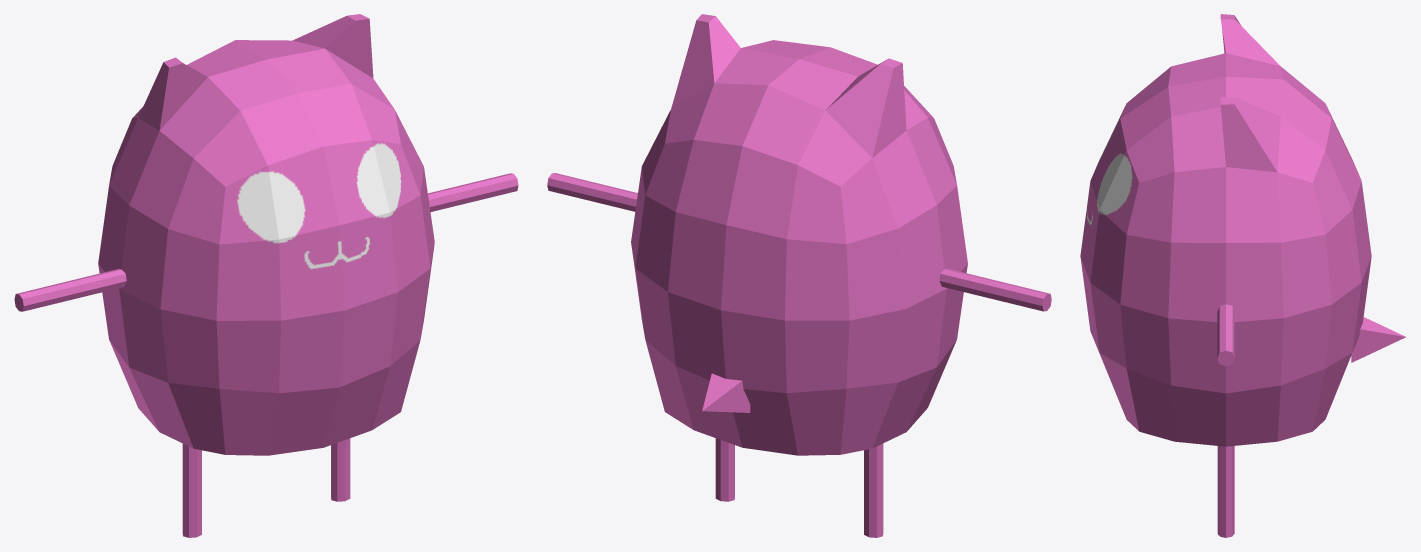
The model's file is nyanyapuccin_pink.glb.
3 renders of one model, left to right at view 1: azimuth 30°, elevation 25°; view 2: azimuth 150°, elevation 25°; view 3: azimuth 270°, elevation 25°, orthographic. The views are drawn at different scales.
Parts seen in each view (by area): view 1: Body, Arms, Legs; view 2: Body, Arms, Legs, Cone; view 3: Body, Legs, Cone, Arms.
Part boxes in pixels (x1,y1,x2,y2): Body: (98,14,434,455); Arms: (14,173,518,311); Legs: (182,438,350,537); Body: (631,14,967,455); Arms: (547,173,1051,311); Legs: (715,438,883,537); Cone: (702,373,750,412); Body: (1080,14,1371,446); Legs: (1217,446,1234,537); Cone: (1351,317,1405,362); Arms: (1217,304,1234,365).
Size of the model in its own units: 3.95 by 3.63 by 2.43.
1 material, 1 textured.
